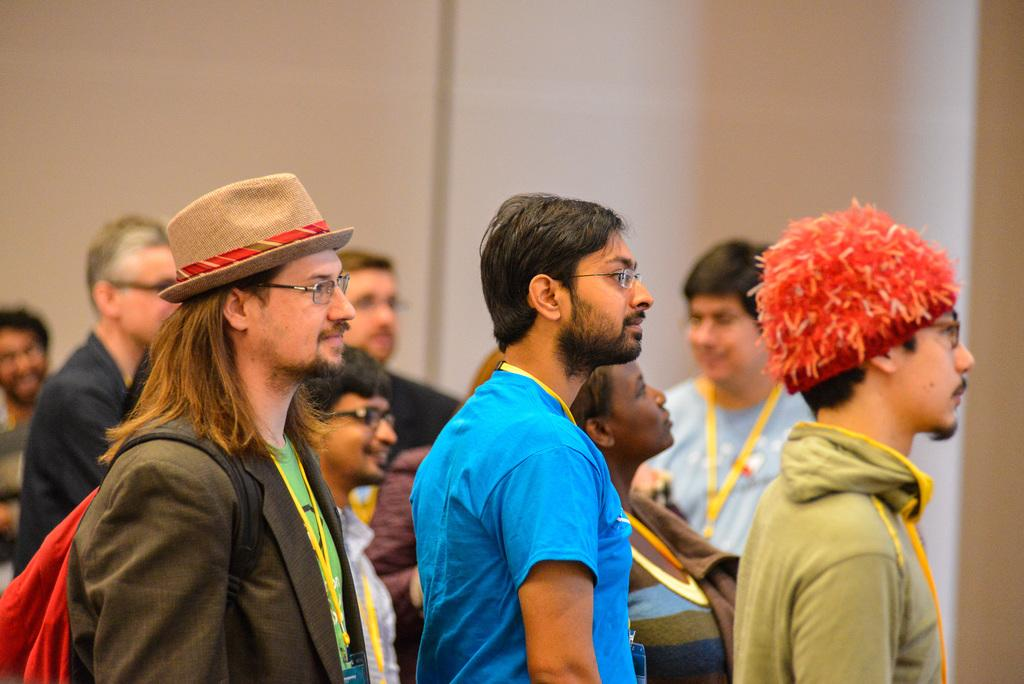Hat: (160, 170, 352, 302)
